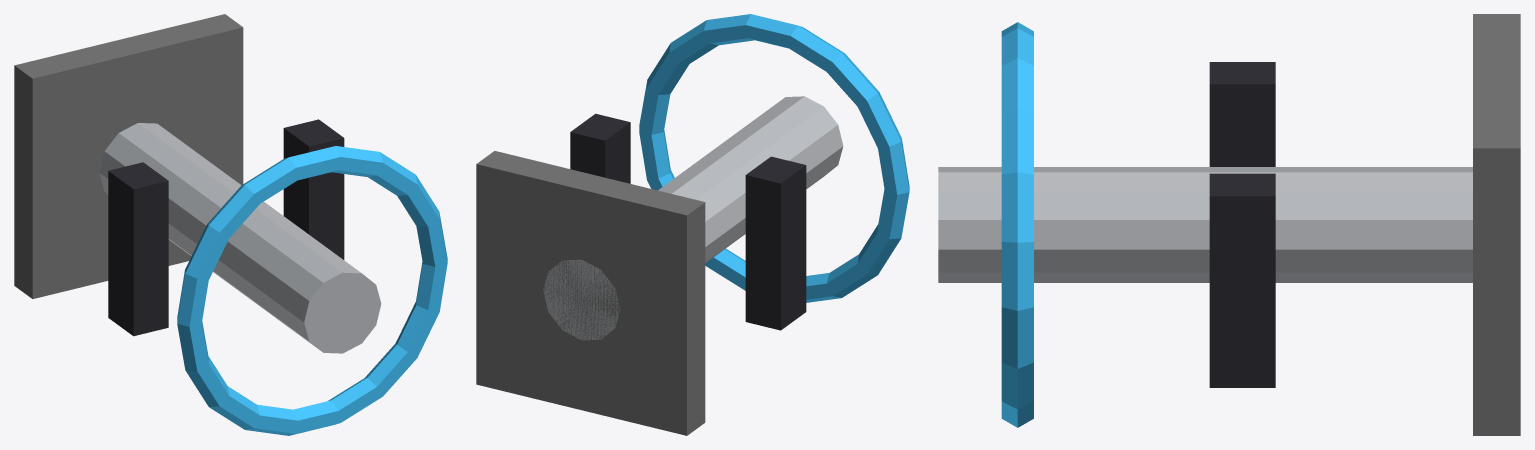
File: orbital_tether_anchor.glb
3 views of the same model, side by side, from view 1: azimuth 30°, elevation 25°; view 2: azimuth 150°, elevation 25°; view 3: azimuth 270°, elevation 25° (orthographic). The views are drawn at different scales.
Visible parts, largest first — view 1: base, column, ring, clampB, clampA; view 2: base, ring, column, clampB, clampA; view 3: column, base, clampA, ring, clampB.
Boxes of the visible parts, <box> form: base: <box>14,14,243,298</box>; column: <box>99,123,381,353</box>; ring: <box>177,146,447,435</box>; clampB: <box>108,162,168,336</box>; clampA: <box>283,119,344,259</box>; base: <box>476,151,705,435</box>; ring: <box>639,14,909,302</box>; column: <box>543,96,843,340</box>; clampB: <box>745,156,806,330</box>; clampA: <box>570,113,630,183</box>; column: <box>938,167,1472,282</box>; base: <box>1473,14,1520,435</box>; clampA: <box>1209,173,1275,387</box>; ring: <box>1001,22,1033,427</box>; clampB: <box>1209,62,1275,166</box>.
Bounding box in the file's own units: 1.54 × 1.52 × 2.2.
